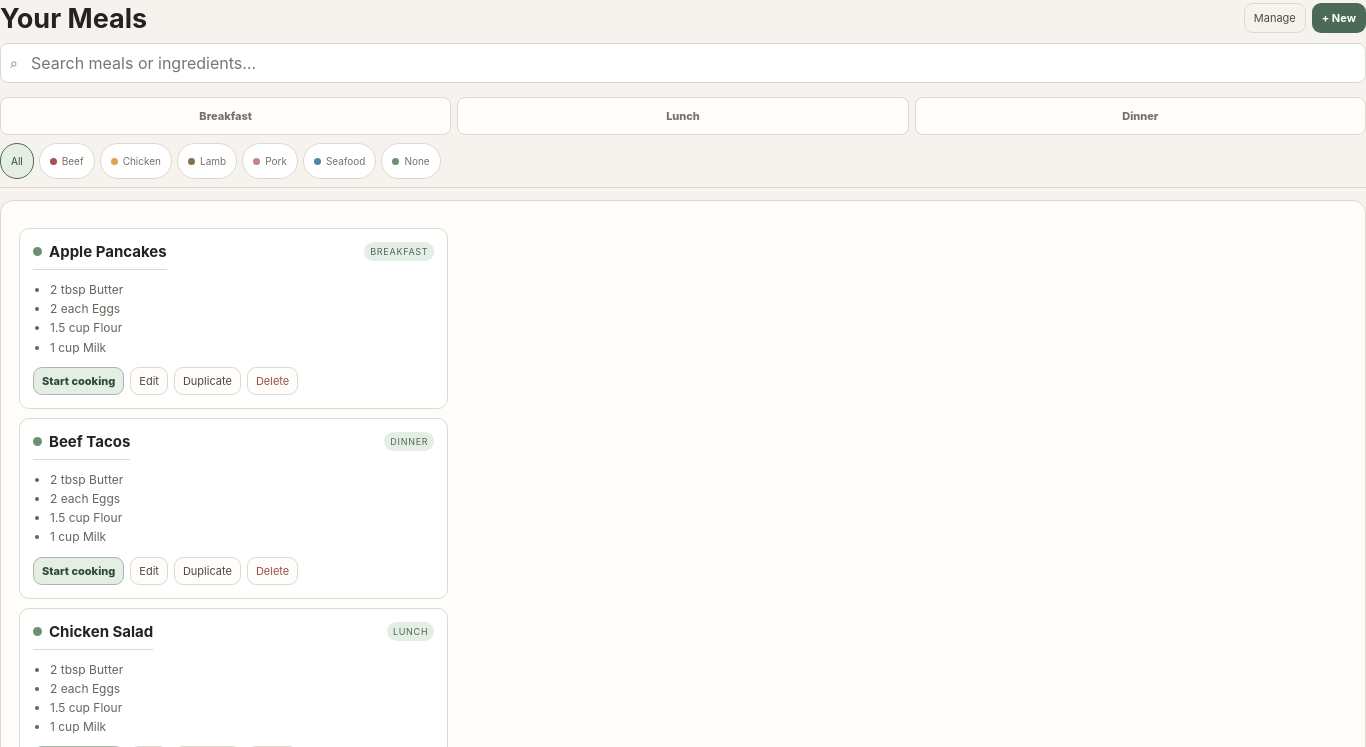
Test case: MealsView filters › treats mobile meal types as independent toggles where zero selected means all
Expected: the heading "Apple Pancakes" is shown, x1=33 y1=242 x2=167 y2=270
Expected: the heading "Chicken Salad" is shown, x1=33 y1=622 x2=153 y2=650
Step 1. Click the button "Breakfast" → [226, 116], box x1=0 y1=97 x2=451 y2=135
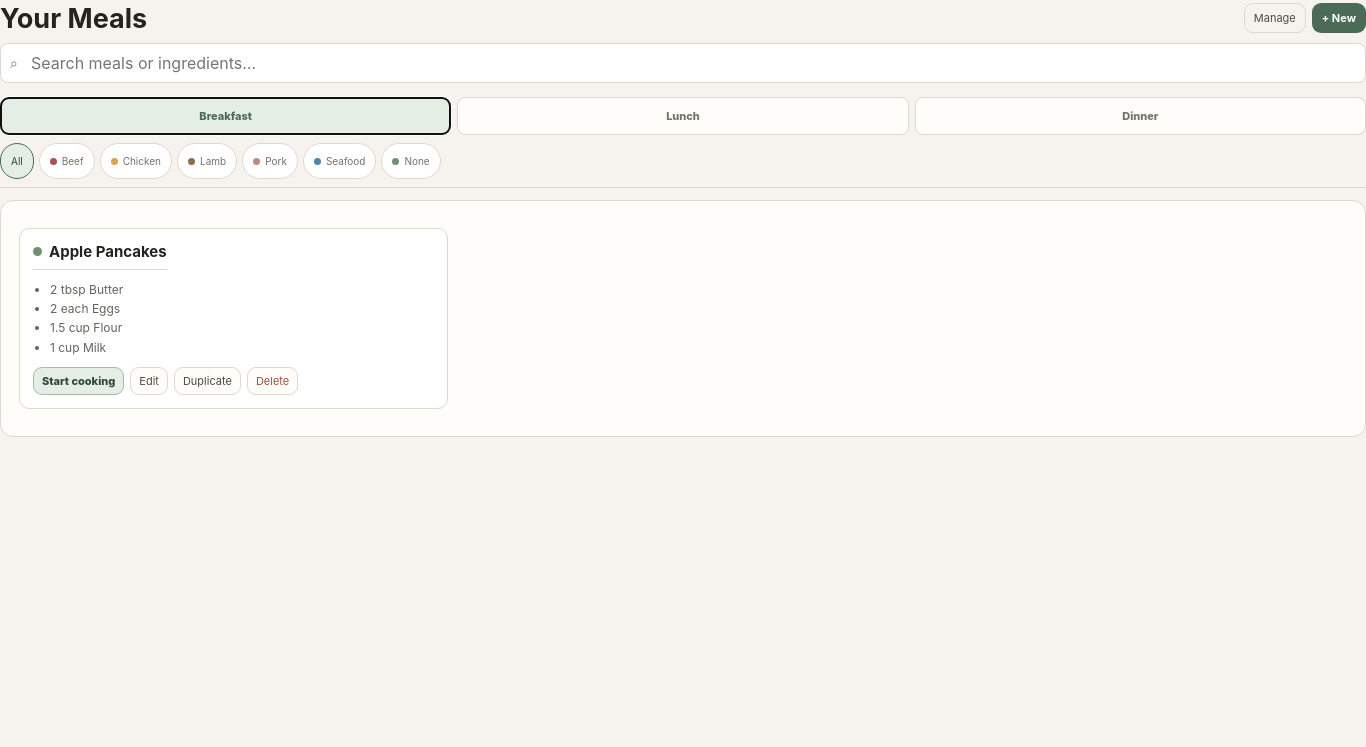
Expected: the heading "Apple Pancakes" is shown, x1=33 y1=242 x2=167 y2=270
Expected: the heading "Chicken Salad" is gone
Expected: the heading "Beef Tacos" is gone
Step 2. Click the button "Lunch" → [683, 116], box x1=457 y1=97 x2=909 y2=135
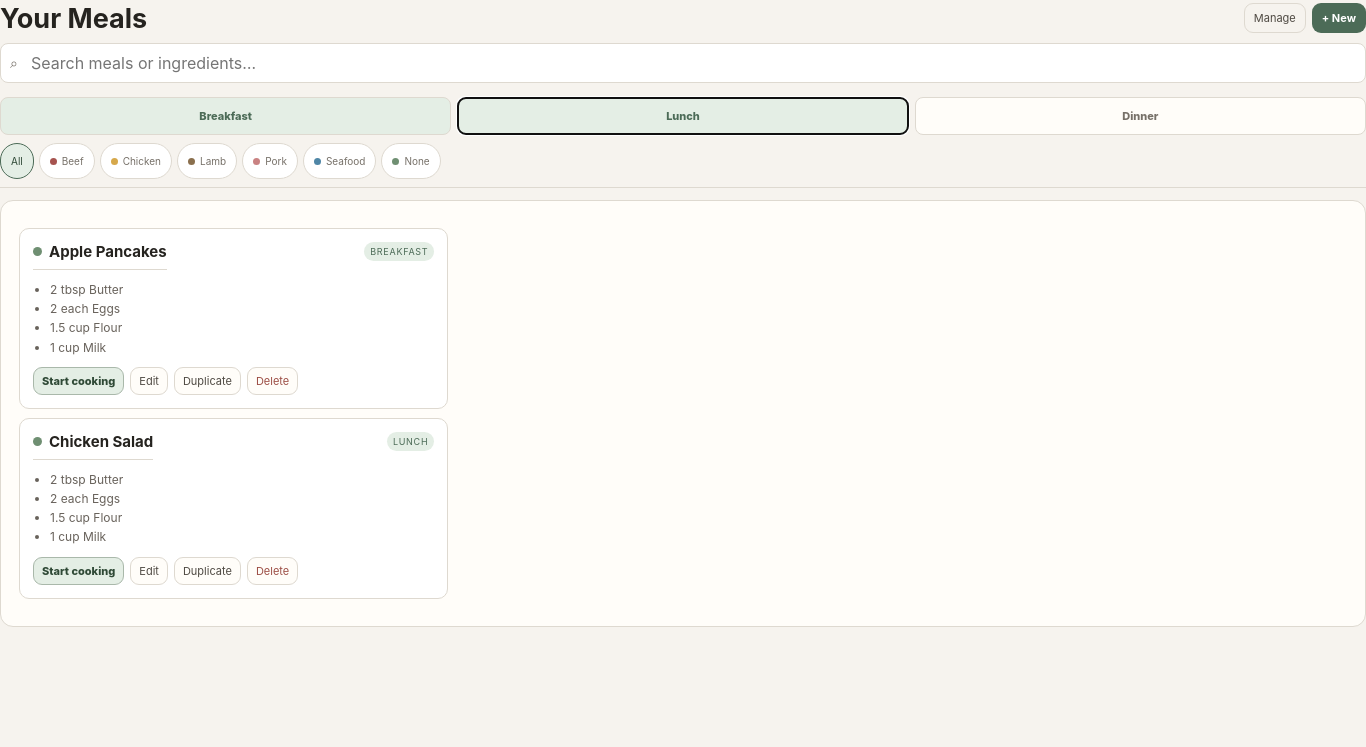
Expected: the heading "Apple Pancakes" is shown, x1=33 y1=242 x2=167 y2=270
Expected: the heading "Chicken Salad" is shown, x1=33 y1=432 x2=153 y2=460
Step 3. Click the button "Dinner" → [1140, 116], box x1=915 y1=97 x2=1365 y2=135
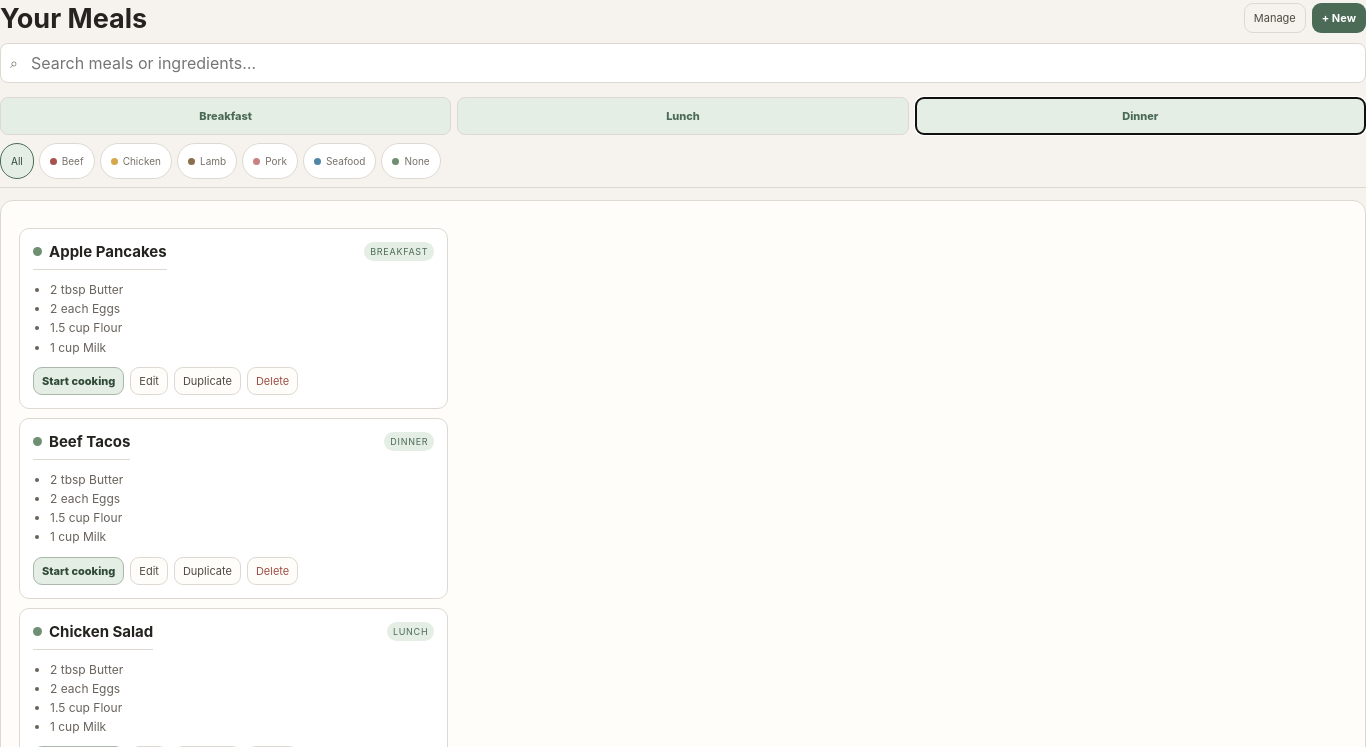
Expected: the heading "Apple Pancakes" is shown, x1=33 y1=242 x2=167 y2=270
Expected: the heading "Chicken Salad" is shown, x1=33 y1=622 x2=153 y2=650
Expected: the heading "Beef Tacos" is shown, x1=33 y1=432 x2=130 y2=460
Step 4. Click the button "Breakfast" → [226, 116], box x1=0 y1=97 x2=451 y2=135
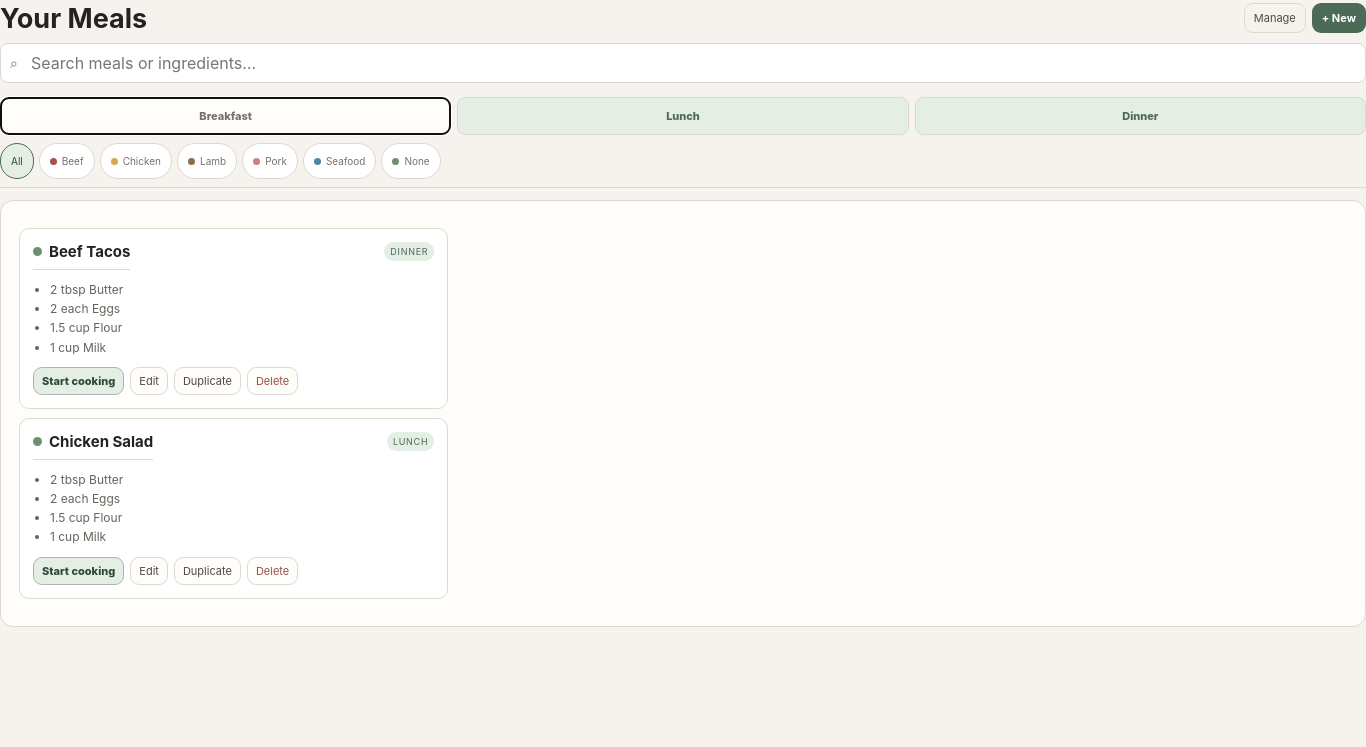
Step 5. Click the button "Lunch" → [683, 116], box x1=457 y1=97 x2=909 y2=135
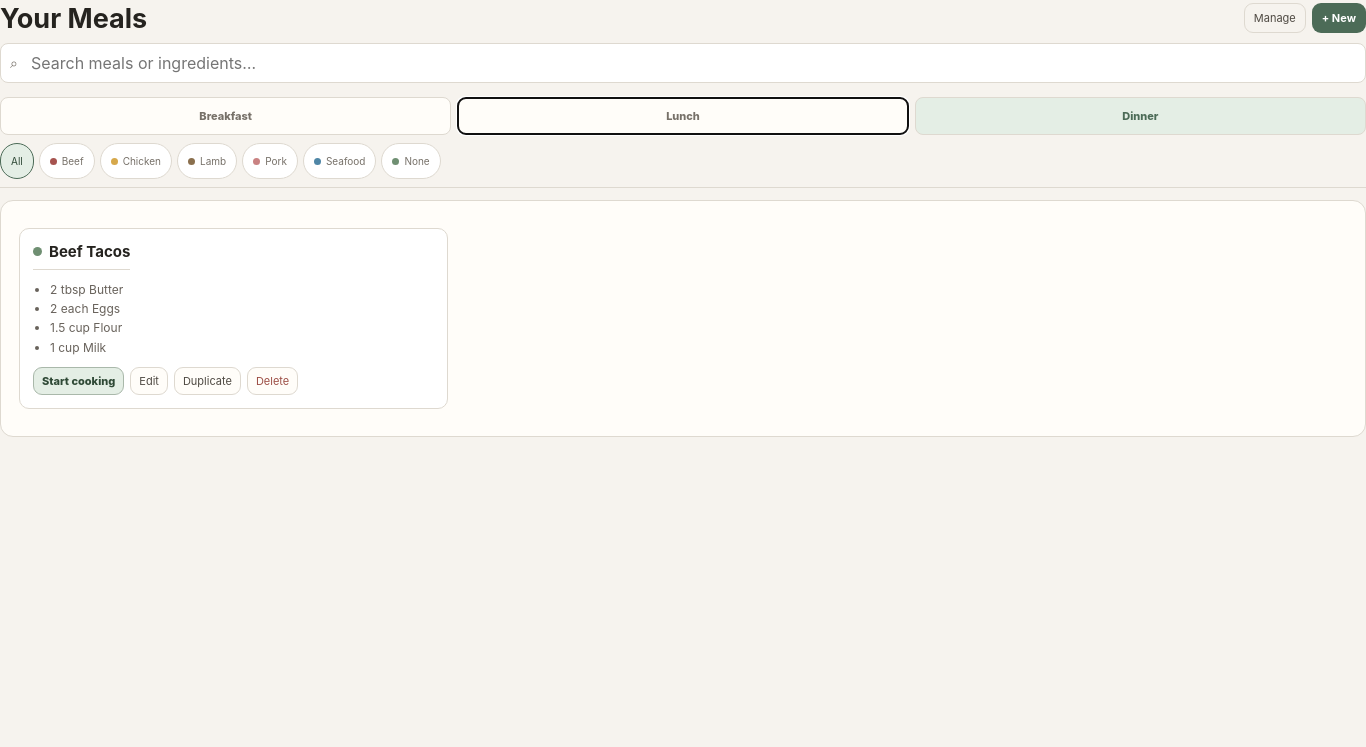
Step 6. Click the button "Dinner" → [1140, 116], box x1=915 y1=97 x2=1365 y2=135
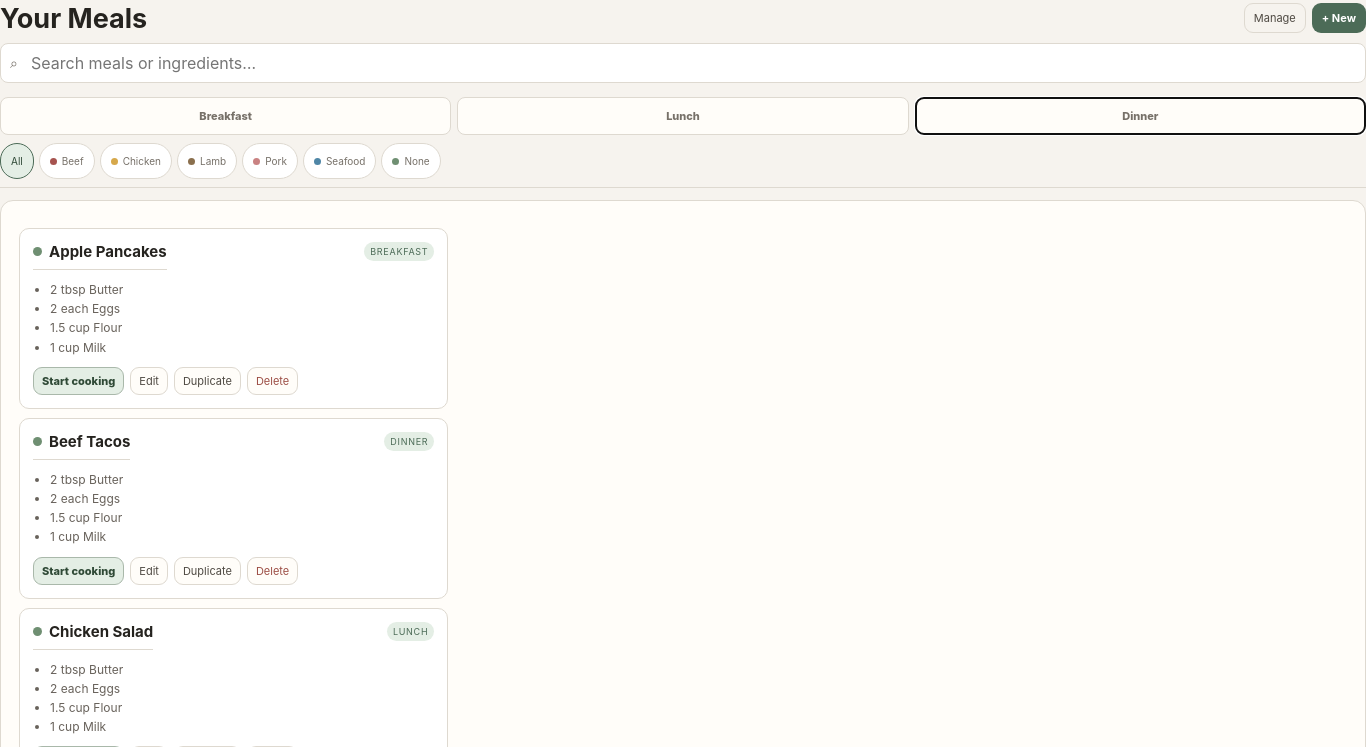
Expected: the heading "Beef Tacos" is shown, x1=33 y1=432 x2=130 y2=460
Expected: the heading "Apple Pancakes" is shown, x1=33 y1=242 x2=167 y2=270
Expected: the heading "Chicken Salad" is shown, x1=33 y1=622 x2=153 y2=650
